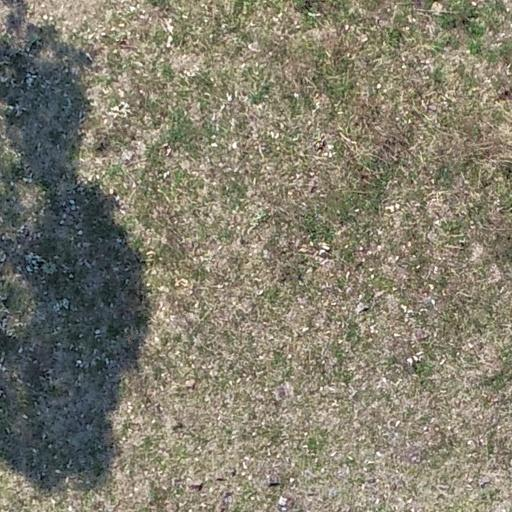stone: (185, 478, 202, 494), (264, 473, 282, 487), (356, 303, 370, 315), (184, 379, 196, 391)
